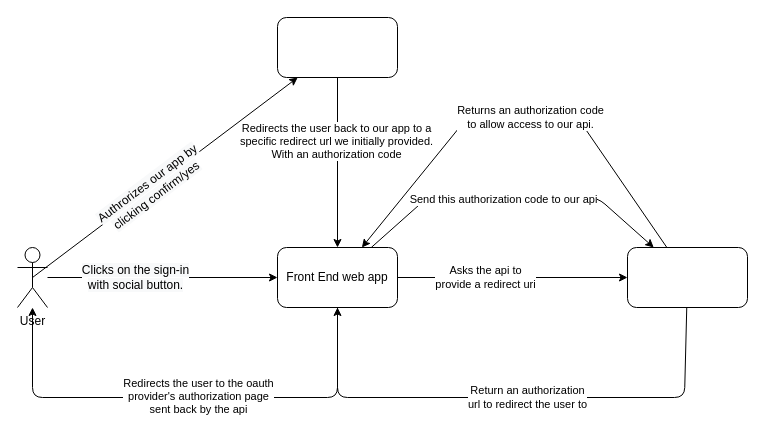
Image size: 765x433. Some labels were removed from this diagram. Each missing label, with the centre of its shape:
"DRF API" goes at [687,277].
"OAuth2.0 Provider" goes at [337,47].
